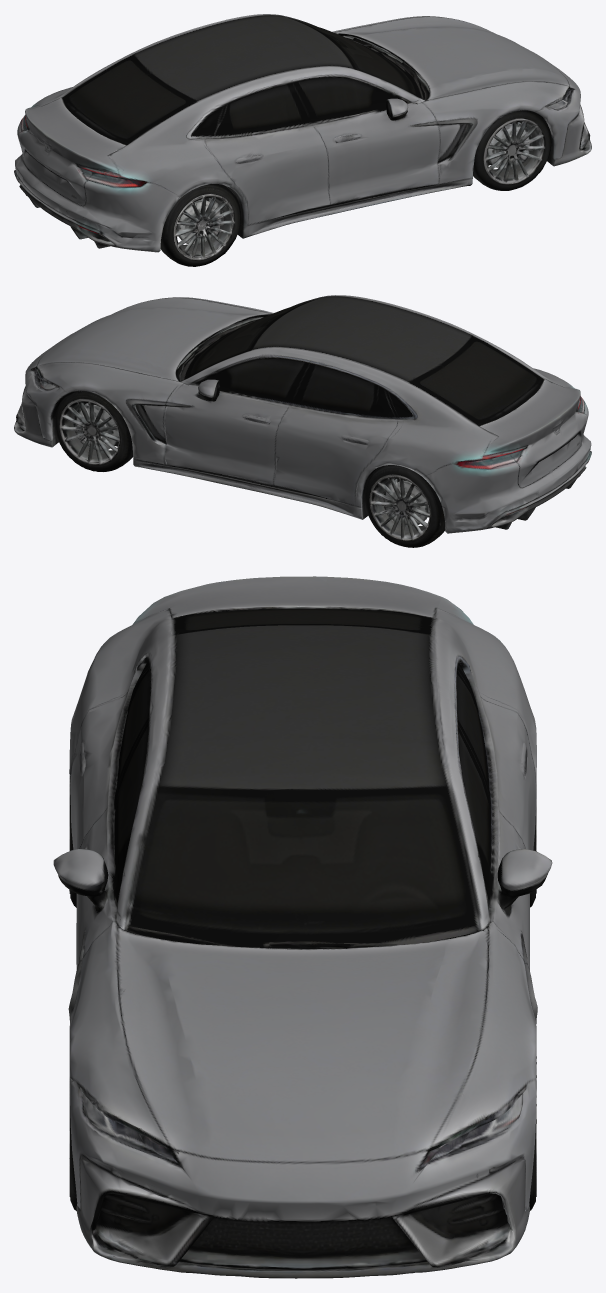
File: car_courier.glb
3 views of the same model, one above another, from view 1: azimuth 30°, elevation 25°; view 2: azimuth 150°, elevation 25°; view 3: azimuth 270°, elevation 25° (orthographic). The views are drawn at different scales.
Visible parts, largest first — view 1: tripo_node_513d72cf-b142-432a-886e-89cf94111971; view 2: tripo_node_513d72cf-b142-432a-886e-89cf94111971; view 3: tripo_node_513d72cf-b142-432a-886e-89cf94111971.
Part boxes in pixels (box(x1,y1,x2,y2)): tripo_node_513d72cf-b142-432a-886e-89cf94111971: box(14, 14, 591, 266); tripo_node_513d72cf-b142-432a-886e-89cf94111971: box(14, 295, 591, 547); tripo_node_513d72cf-b142-432a-886e-89cf94111971: box(53, 576, 552, 1278).
Bounding box in the file's own units: 0.9799 × 0.2793 × 0.406.
Materials: 1 (1 with a texture image).
